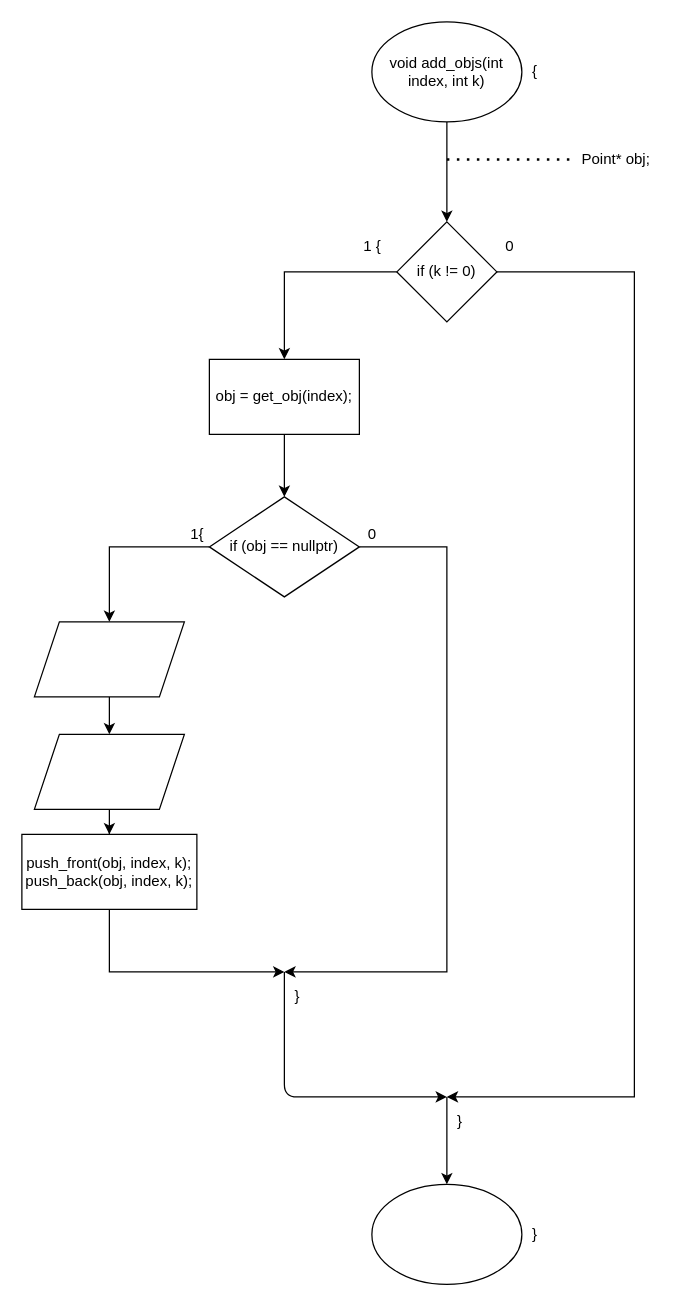
Some shapes in this 681 by 1306 pixel diagram are drawn without their labels. The shapes that lost their labels are listed below. From the top down, each one's box as (x1, y1, x2, y2) in pixels, then its label:
(33, 621, 184, 697): cout << "Такого индекса не существует! " << endl;
(33, 733, 184, 809): вспомогательный вывод
(371, 1183, 522, 1284): return;
